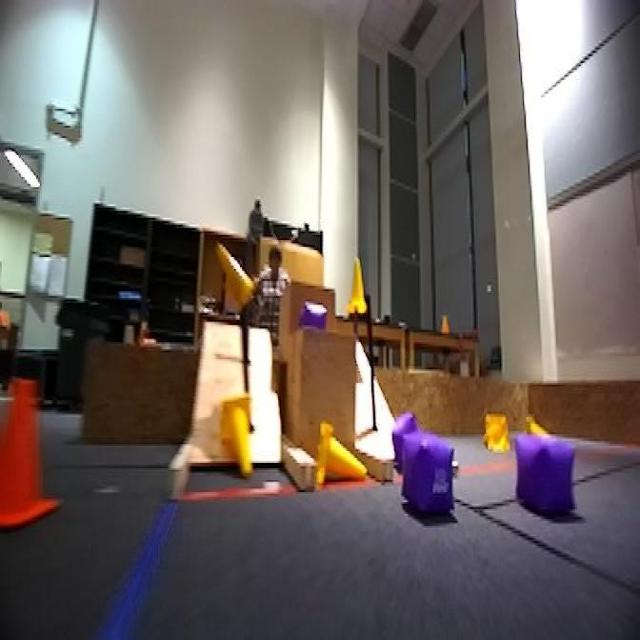frc_cone: (213, 393, 263, 477), (312, 420, 366, 492), (212, 245, 265, 313), (342, 260, 371, 320), (484, 412, 509, 451), (527, 415, 554, 441)
frc_cube: (513, 422, 580, 536), (402, 431, 455, 526), (378, 412, 415, 478), (299, 298, 333, 335)
